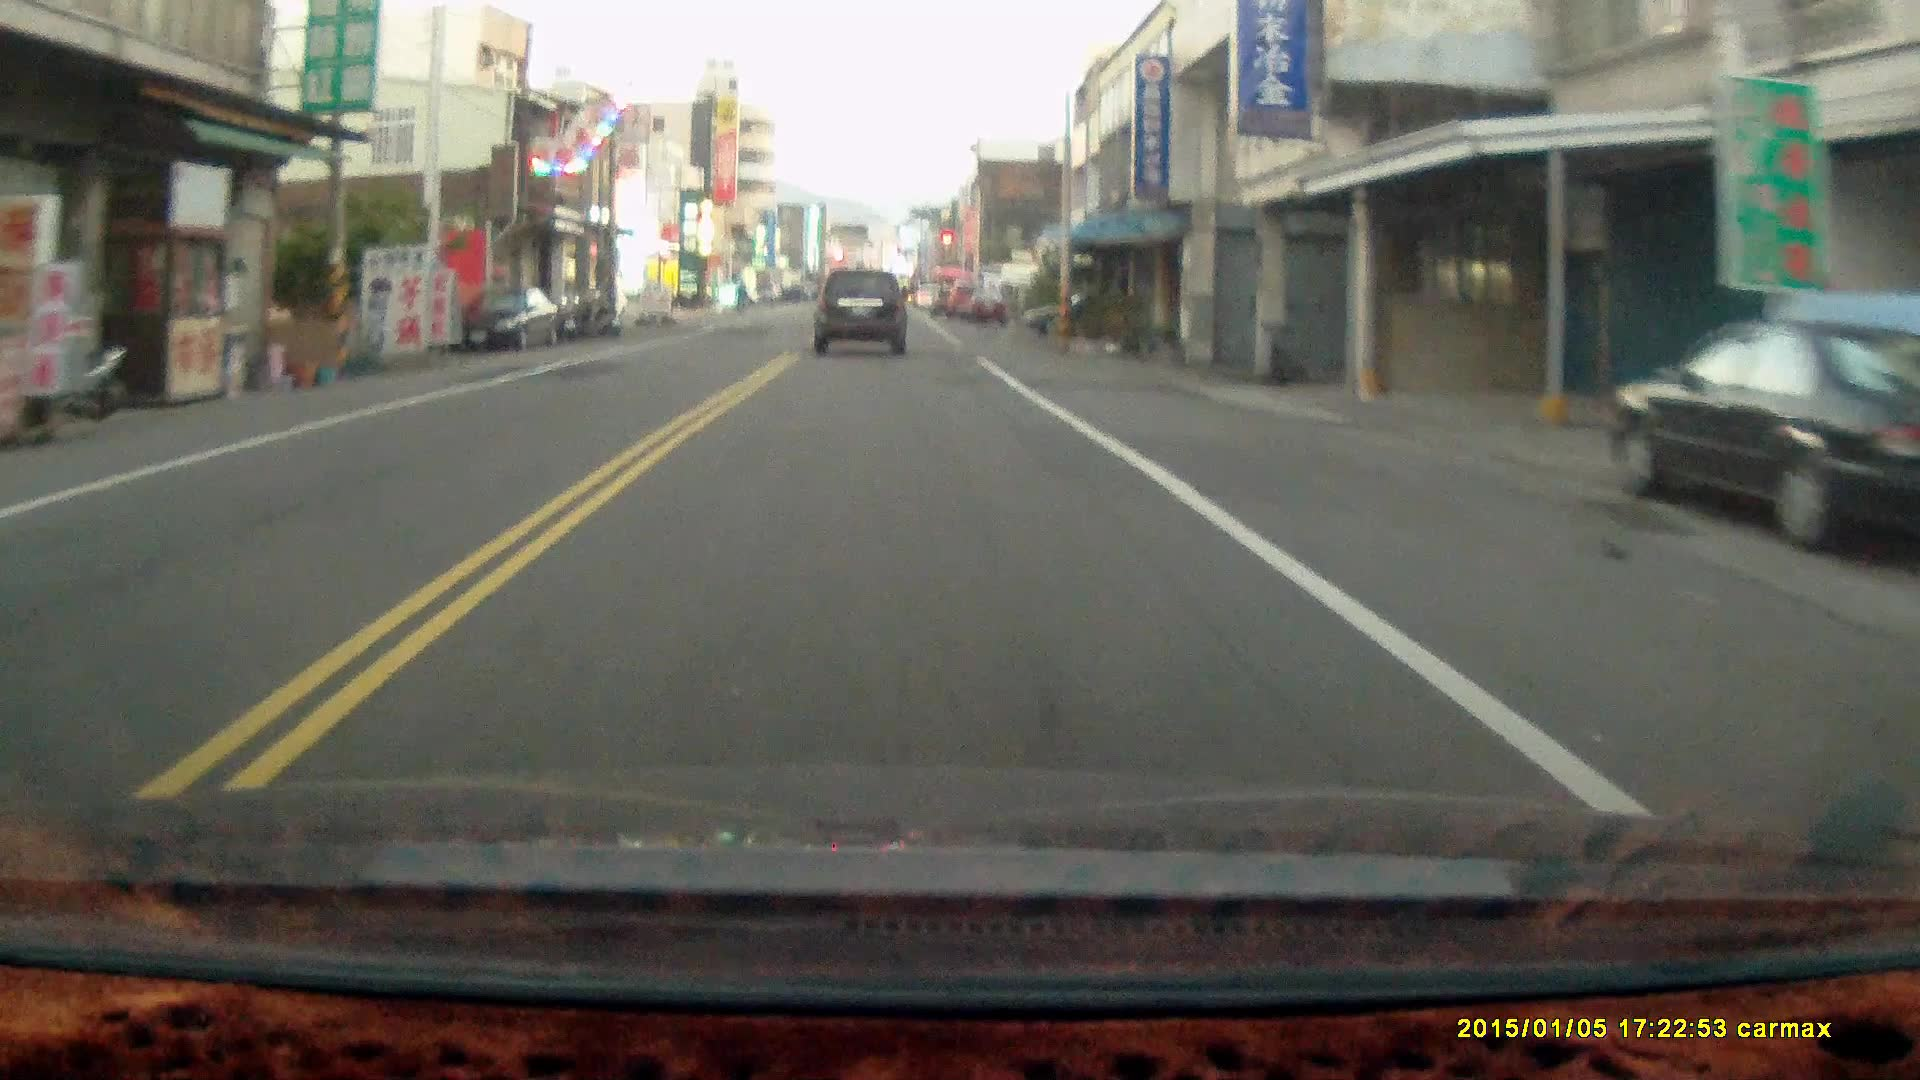vehicle: (1607, 319, 1920, 559), (814, 272, 910, 359), (448, 285, 560, 353)
